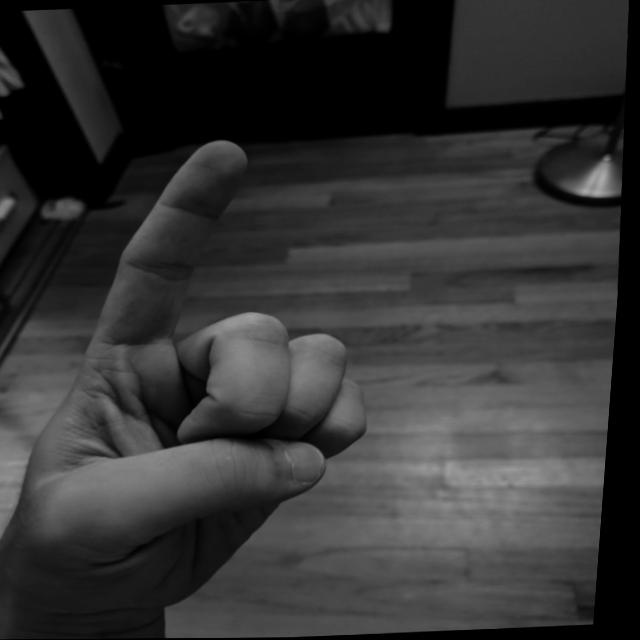D: (0, 129, 408, 624)
